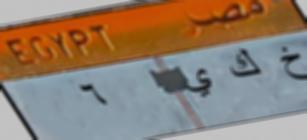6: (76, 78, 108, 110)
kaaf: (221, 43, 262, 81)
khaa: (277, 41, 307, 84)
yaa: (180, 67, 215, 100)
